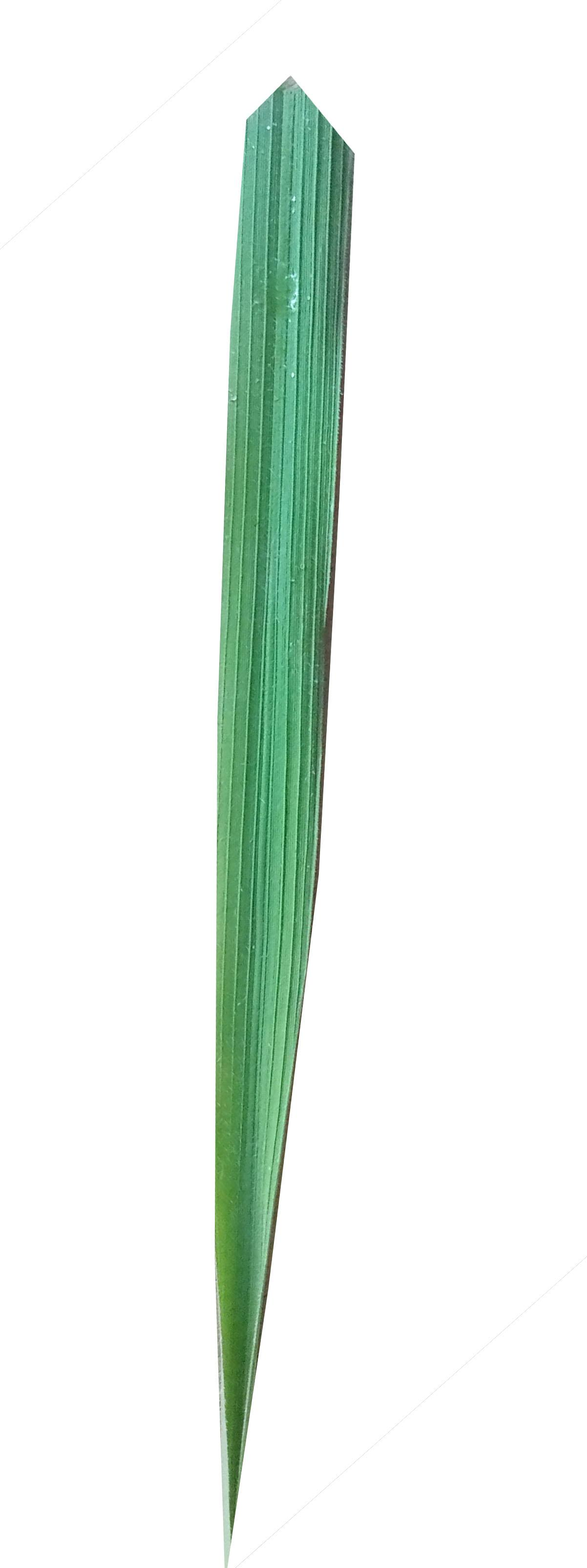Healthy: (212, 79, 353, 1547)
